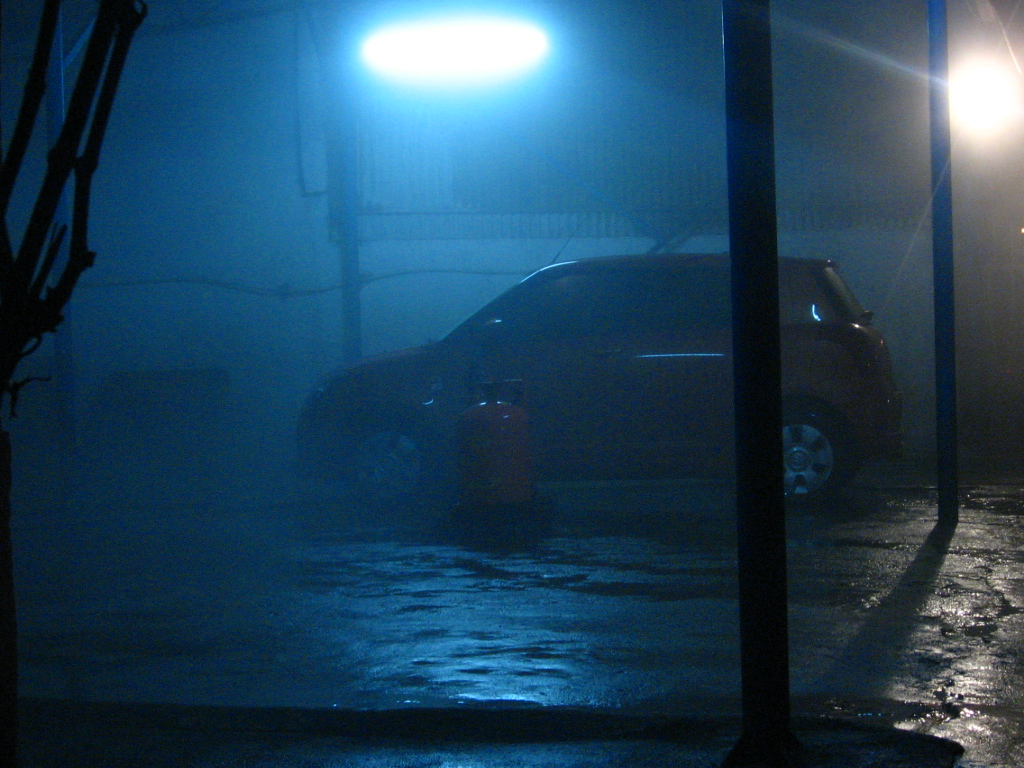car: (283, 243, 914, 534)
